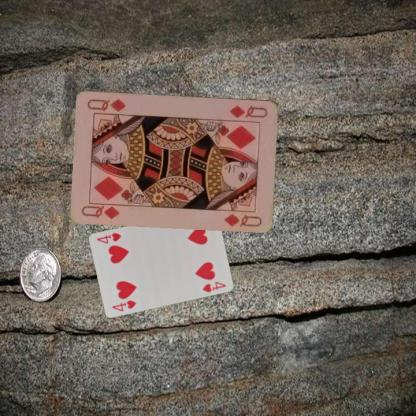4h: (109, 297, 138, 312)
Qd: (79, 199, 124, 220), (227, 102, 269, 119)
